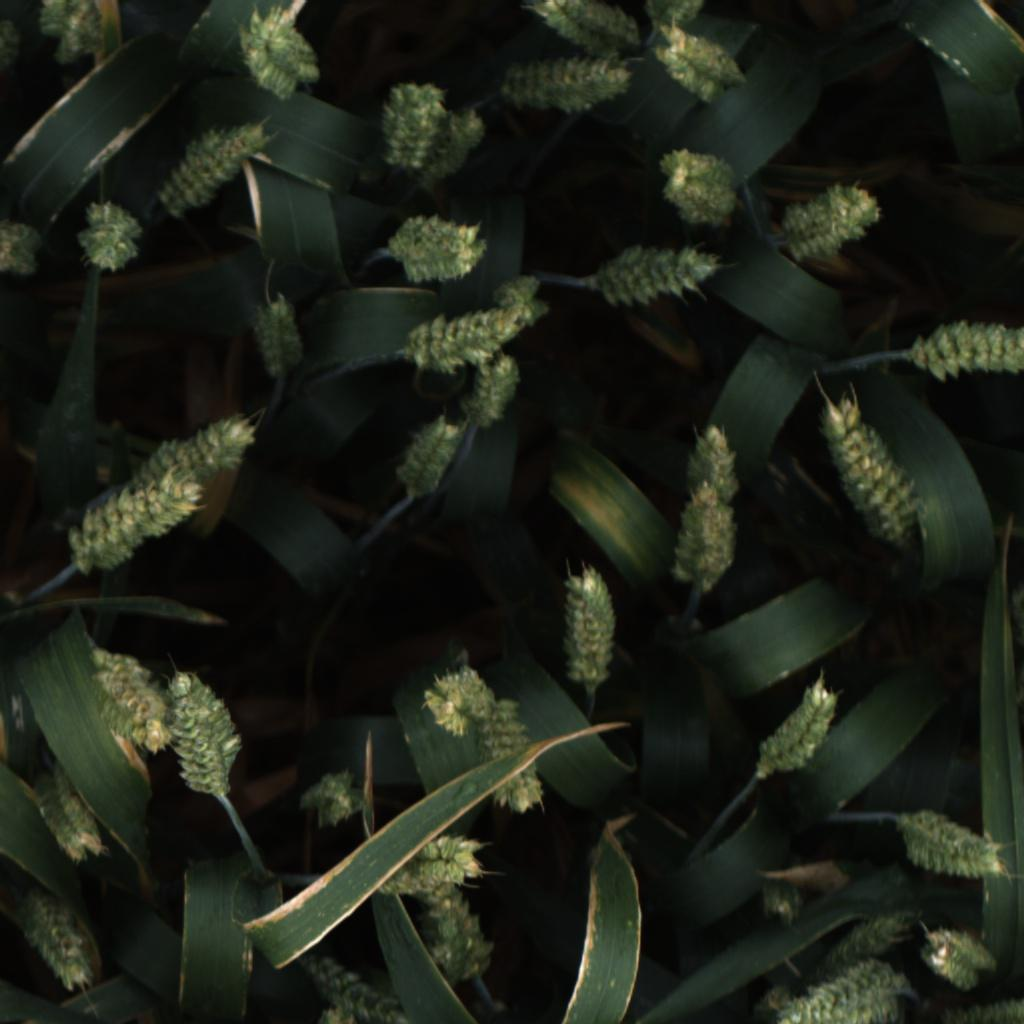0-0: (818, 394, 931, 552), (67, 471, 204, 580), (391, 295, 527, 384), (404, 869, 495, 993), (778, 173, 888, 270), (162, 668, 241, 798), (157, 123, 263, 219), (133, 409, 257, 491), (755, 669, 843, 783), (899, 799, 1011, 887), (298, 944, 419, 1024), (87, 646, 172, 758), (671, 481, 749, 593), (595, 241, 726, 307), (234, 8, 324, 102), (650, 141, 744, 230), (505, 54, 635, 118), (387, 211, 499, 285), (770, 967, 914, 1024), (907, 316, 1024, 385), (558, 561, 620, 691), (15, 899, 96, 996), (655, 22, 748, 106), (375, 829, 487, 898), (821, 898, 923, 973), (524, 1, 648, 62), (485, 691, 544, 818), (33, 774, 111, 868), (914, 912, 1004, 993), (375, 80, 450, 174), (411, 109, 490, 197), (414, 657, 492, 742), (78, 187, 149, 277), (392, 412, 465, 499), (677, 414, 746, 503), (294, 760, 372, 835), (463, 345, 527, 425), (249, 284, 305, 375), (489, 272, 551, 343), (54, 1, 109, 69), (0, 211, 51, 282), (753, 880, 806, 934), (812, 997, 904, 1024), (935, 995, 1024, 1022), (643, 0, 703, 36), (36, 0, 69, 38), (0, 17, 24, 66), (315, 1005, 361, 1024)
